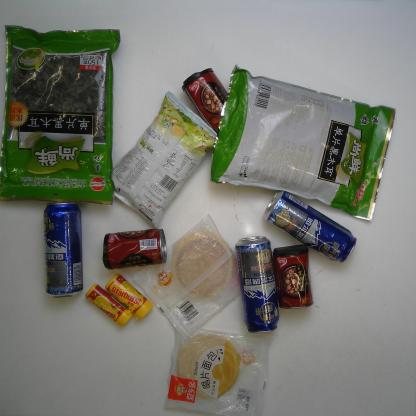Alcohol: (262, 188, 358, 265), (234, 232, 280, 334), (42, 200, 85, 299)
Candy: (104, 272, 154, 322), (84, 283, 132, 326)
Canned Food: (182, 65, 242, 142), (100, 224, 174, 271), (273, 242, 313, 314)
Dessert: (130, 213, 249, 342), (163, 323, 273, 416)
Dried Food: (210, 64, 397, 222), (0, 25, 122, 206)
Puffed Food: (98, 89, 220, 230)
